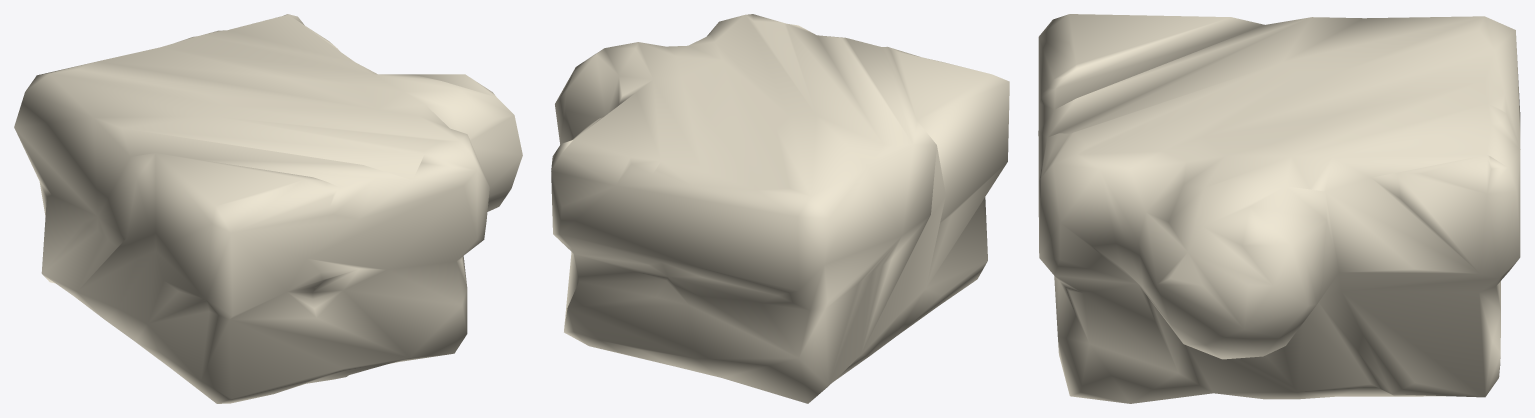
Rendered from carpus_l.glb.
The picture shows the model from 3 angles, left to right: view 1: azimuth 30°, elevation 25°; view 2: azimuth 150°, elevation 25°; view 3: azimuth 270°, elevation 25°; orthographic projection. The views are drawn at different scales.
Parts seen in each view (by area): view 1: geometry_0; view 2: geometry_0; view 3: geometry_0.
Boxes of the visible parts, box(x1,y1,x2,y2) form: geometry_0: box(14, 14, 522, 403); geometry_0: box(551, 14, 1009, 403); geometry_0: box(1038, 14, 1520, 403).
Bounding box in the file's own units: 0.1361 × 0.0736 × 0.1259.
